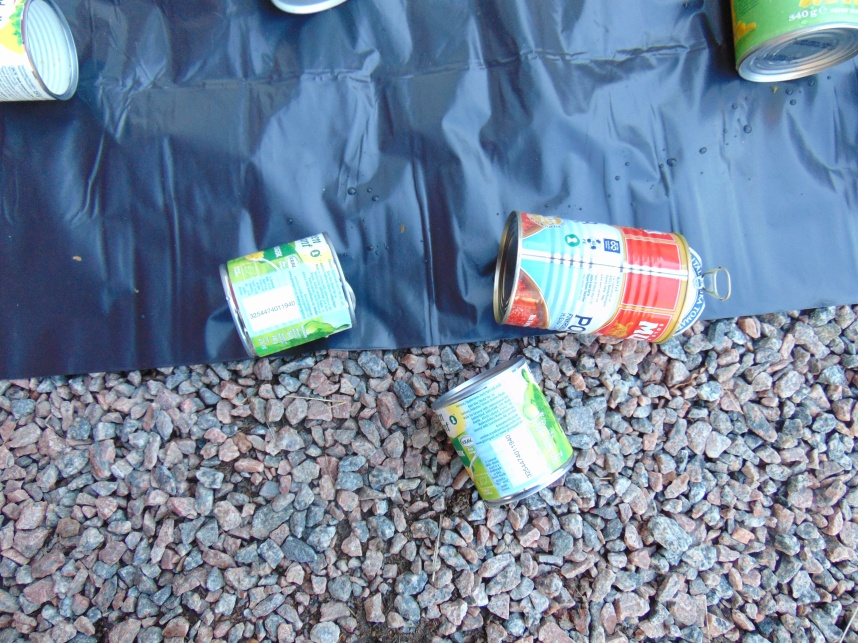metal_can: (494, 210, 688, 352), (432, 353, 576, 512), (217, 234, 359, 361), (729, 1, 858, 84), (1, 1, 80, 108), (265, 1, 351, 15)
